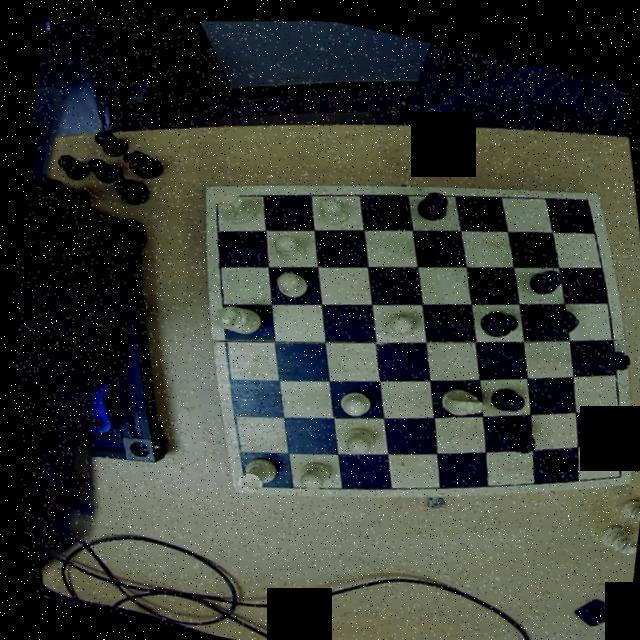chess-table-corners: (228, 462, 262, 494), (200, 180, 232, 212), (567, 179, 601, 206), (602, 450, 632, 478)
